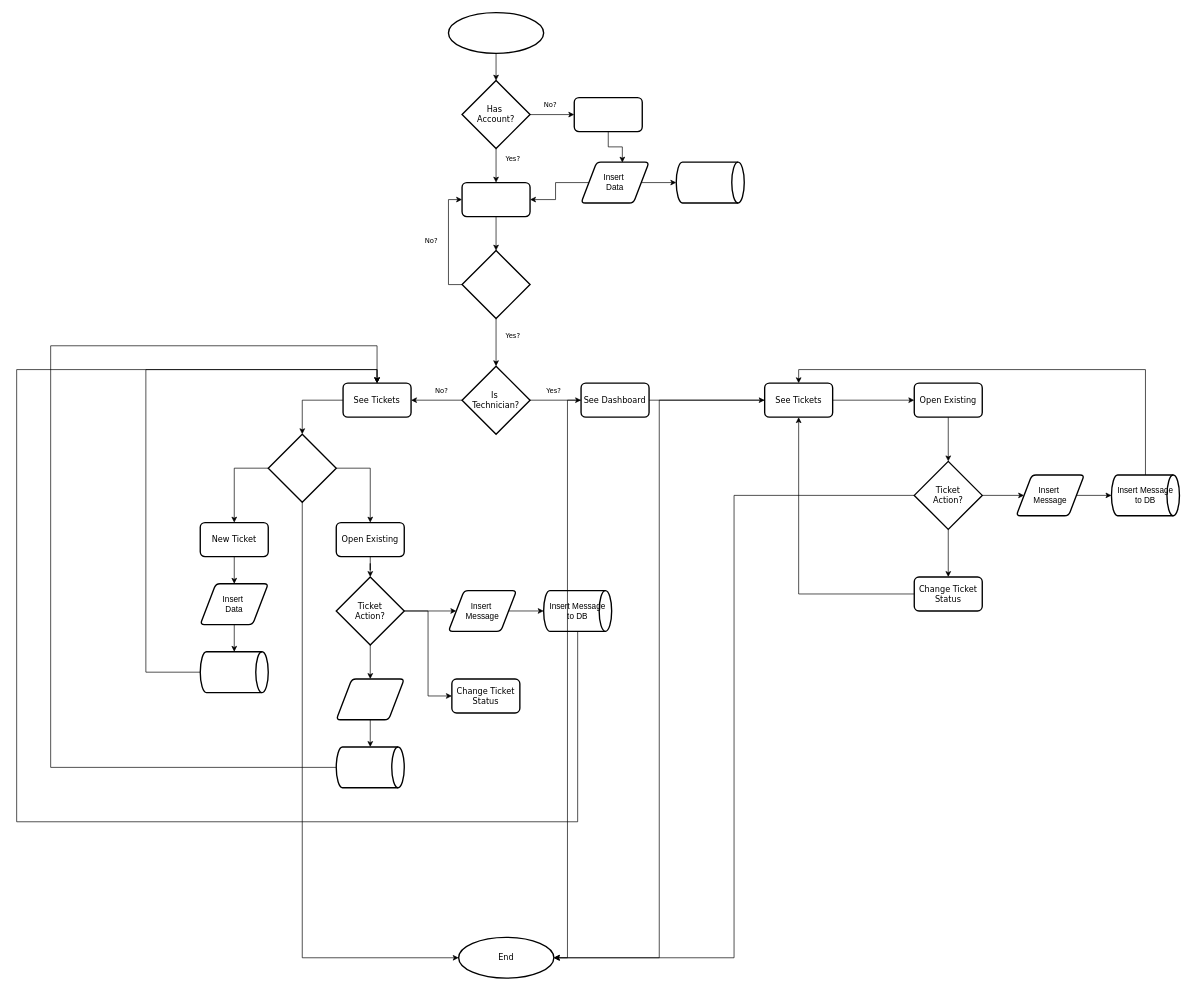
Some shapes in this 1192 by 990 pixel diagram are drawn without their labels. The shapes that lost their labels are listed below. From the top down, each one's box as (x1, y1, x2, y2) in pixels, then its label:
(447, 12, 544, 54): Start
(573, 97, 643, 132): Register
(461, 182, 530, 217): Login
(675, 161, 745, 203): Insert User to DB
(461, 250, 530, 319): Valid Login?
(267, 433, 337, 503): Action?
(199, 651, 269, 693): Insert Ticket to DB
(335, 678, 405, 720): Edit Ticket Data
(335, 746, 405, 788): Update Ticket in DB
